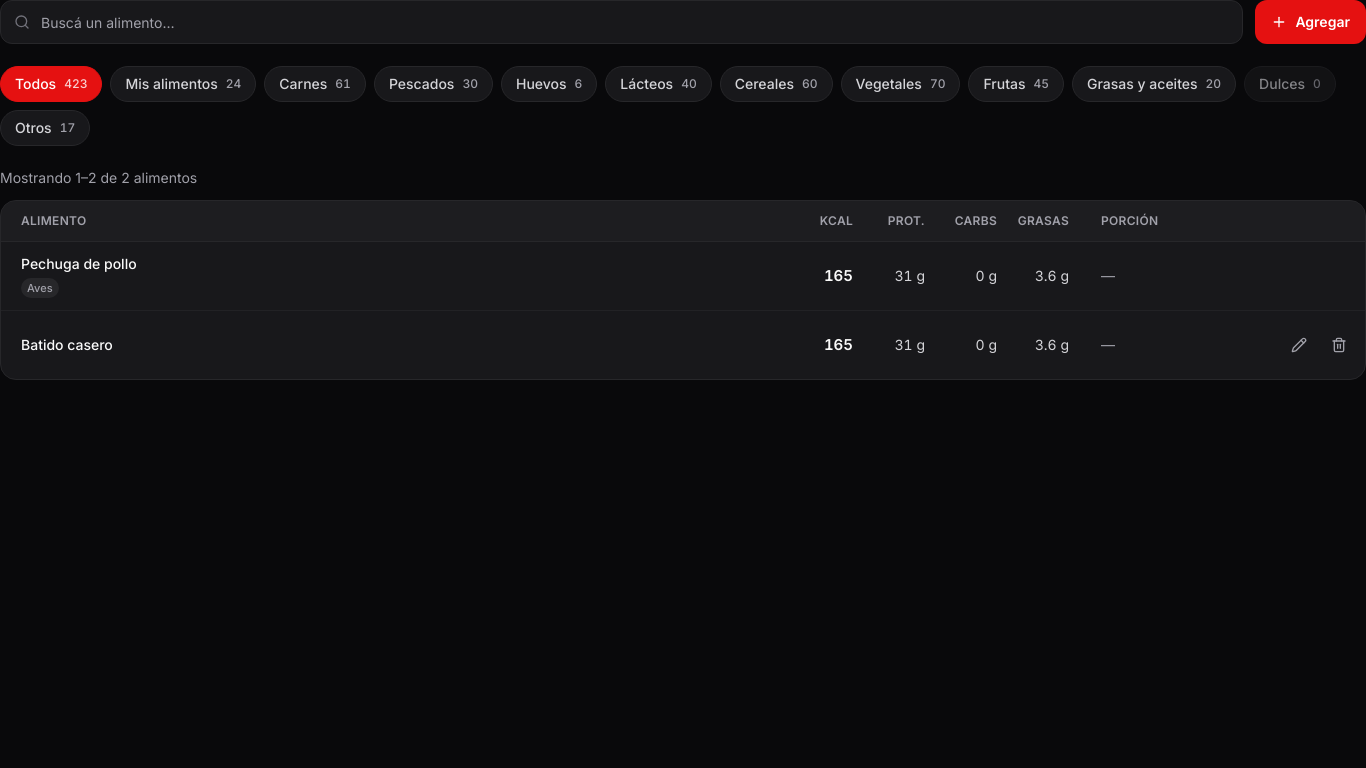
it: food list › detail › does not open when the edit button inside a row is clicked
Click the button named "Editar Batido casero" at (1299, 345), box [1281,327,1317,363]
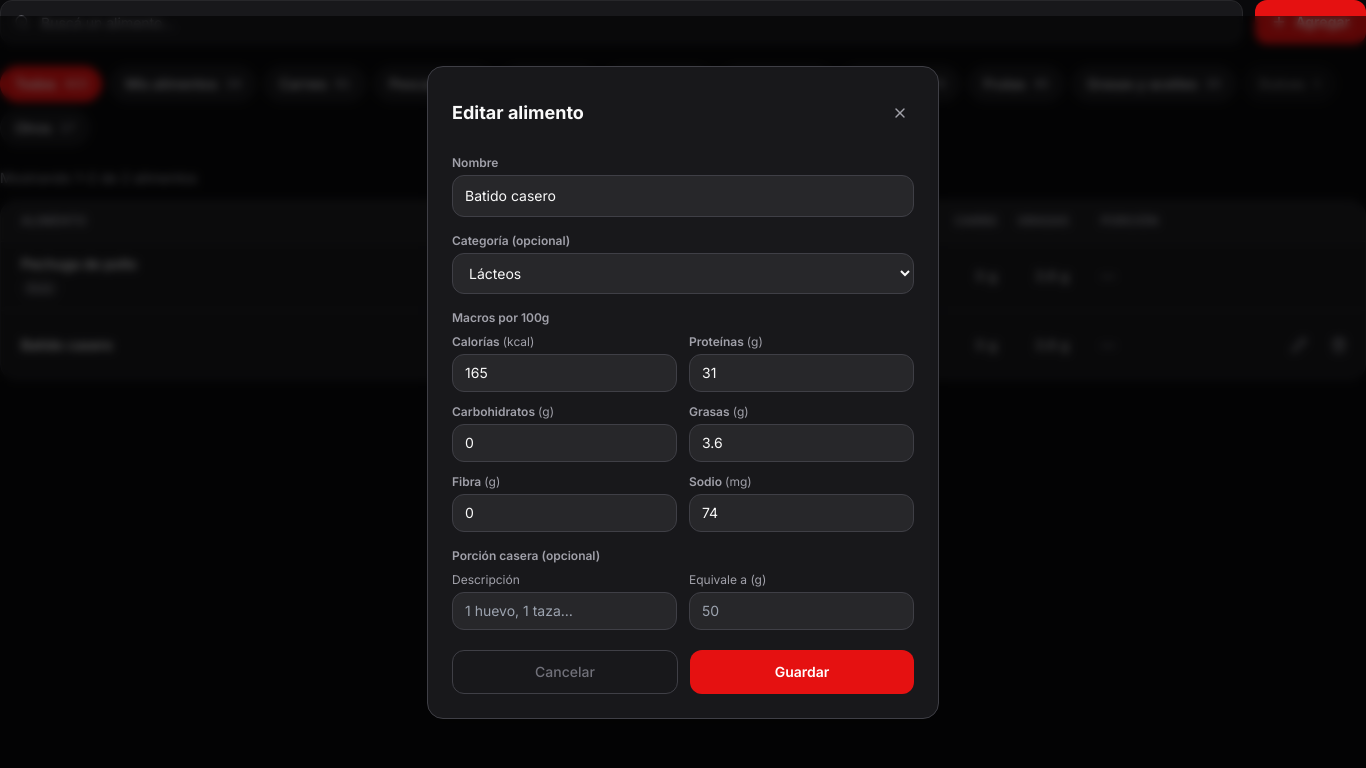
Expected: the dialog "Editar alimento" is shown, [427,66,939,718]
